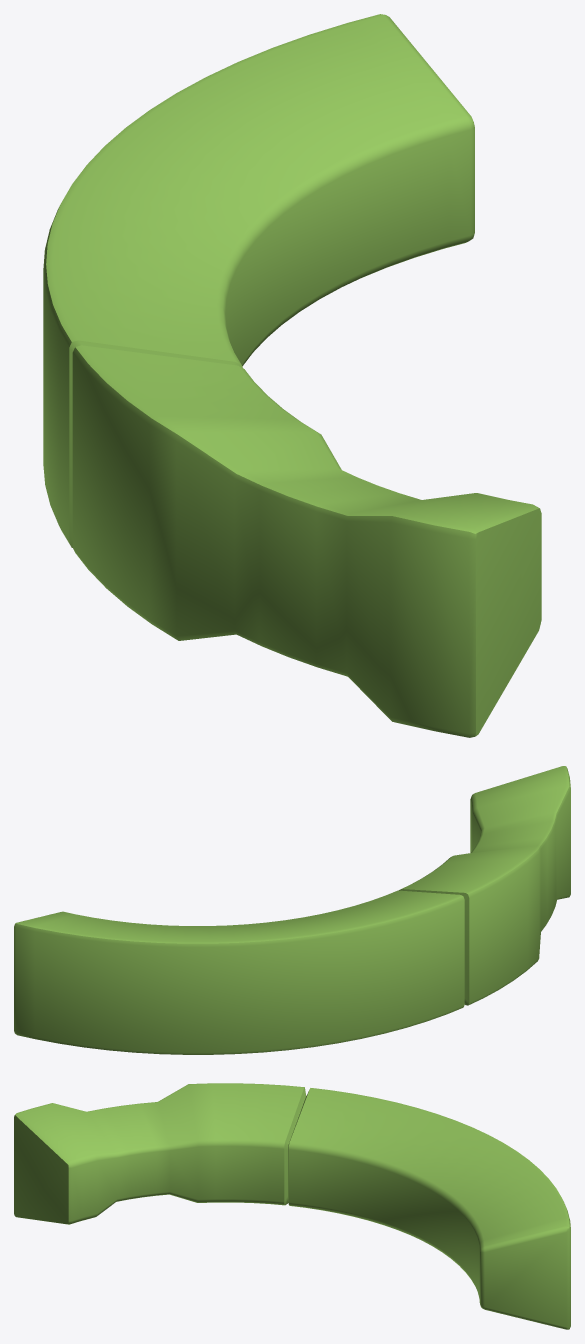
File: CircleBlock2.obj
3 renders of one model, top to bottom at view 1: azimuth 30°, elevation 25°; view 2: azimuth 150°, elevation 25°; view 3: azimuth 270°, elevation 25°, orthographic. The views are drawn at different scales.
Parts seen in each view (by area): view 1: CircleBlock2; view 2: CircleBlock2; view 3: CircleBlock2.
Part boxes in pixels (x1,y1,x2,y2): CircleBlock2: (43, 14, 541, 737); CircleBlock2: (14, 766, 570, 1054); CircleBlock2: (14, 1083, 570, 1329).
Bounding box in the file's own units: 17.23 × 5.73 × 27.85.
